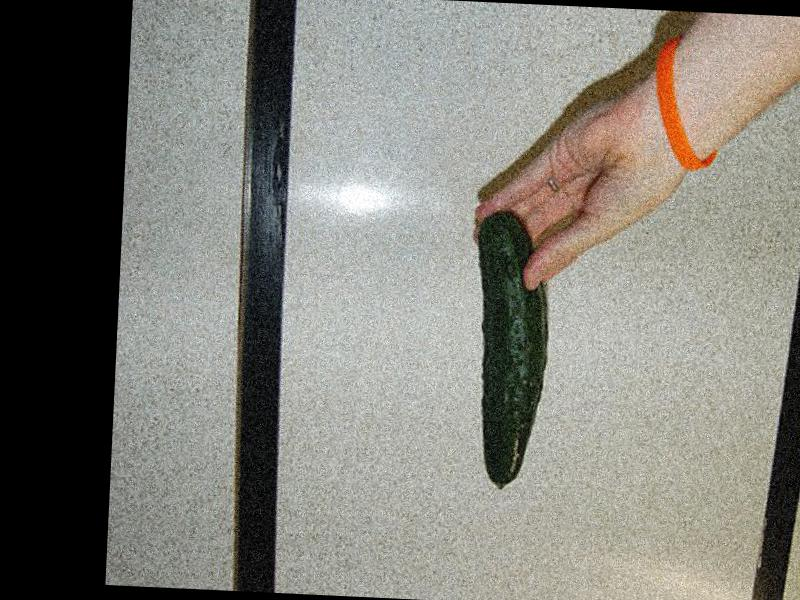Cucumber: (465, 209, 550, 492)
